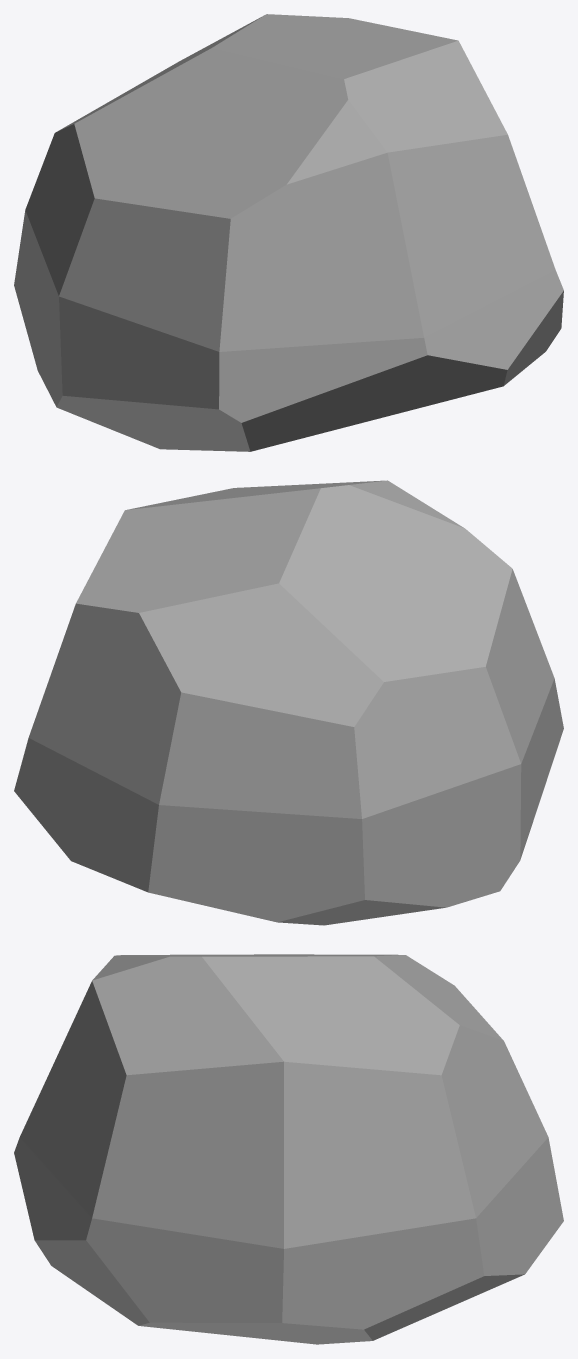
File: Rock1.fbx
3 views of the same model, one above another, from view 1: azimuth 30°, elevation 25°; view 2: azimuth 150°, elevation 25°; view 3: azimuth 270°, elevation 25° (orthographic).
Visible parts, largest first — view 1: Cube.008; view 2: Cube.008; view 3: Cube.008.
Boxes of the visible parts, x1,y1,x2,y2 form: Cube.008: (14,14,563,451); Cube.008: (14,480,563,925); Cube.008: (14,954,563,1344).
Size of the model in its own units: 1.69 by 1.76 by 1.24.
